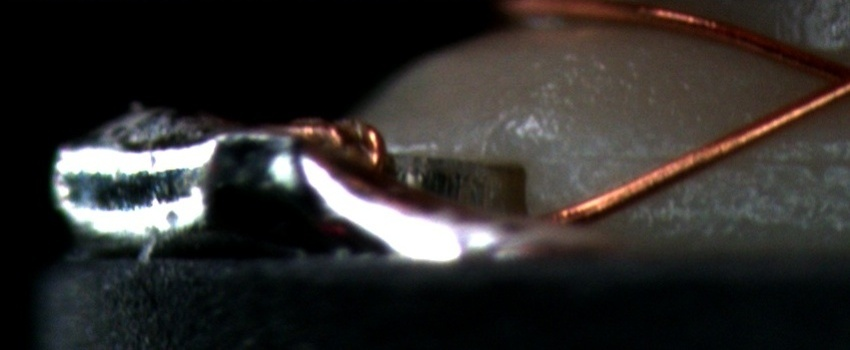CL: (799, 44, 849, 110)
DL: (566, 133, 849, 190)
TE: (281, 111, 385, 168)
